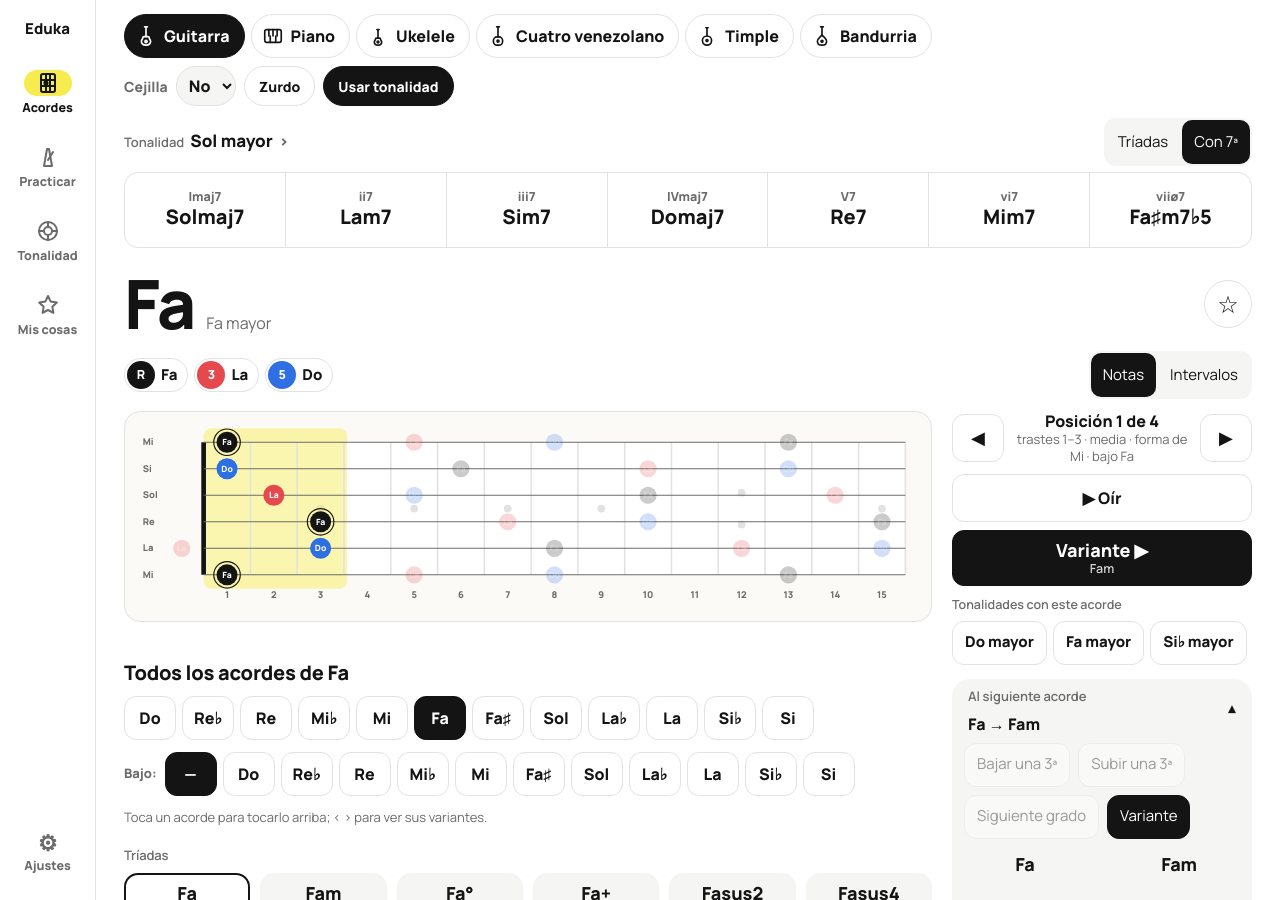
Test: pantalla Acordes › acorde fuera de tonalidad: botón Variante y chips de tonalidades
Expected: the button "Variante ▶ Fam" is shown, [952, 530, 1252, 586]
Click the button with test id "key-suggestion" showing "Do mayor". click: point(999, 643)
box: [952, 621, 1047, 665]
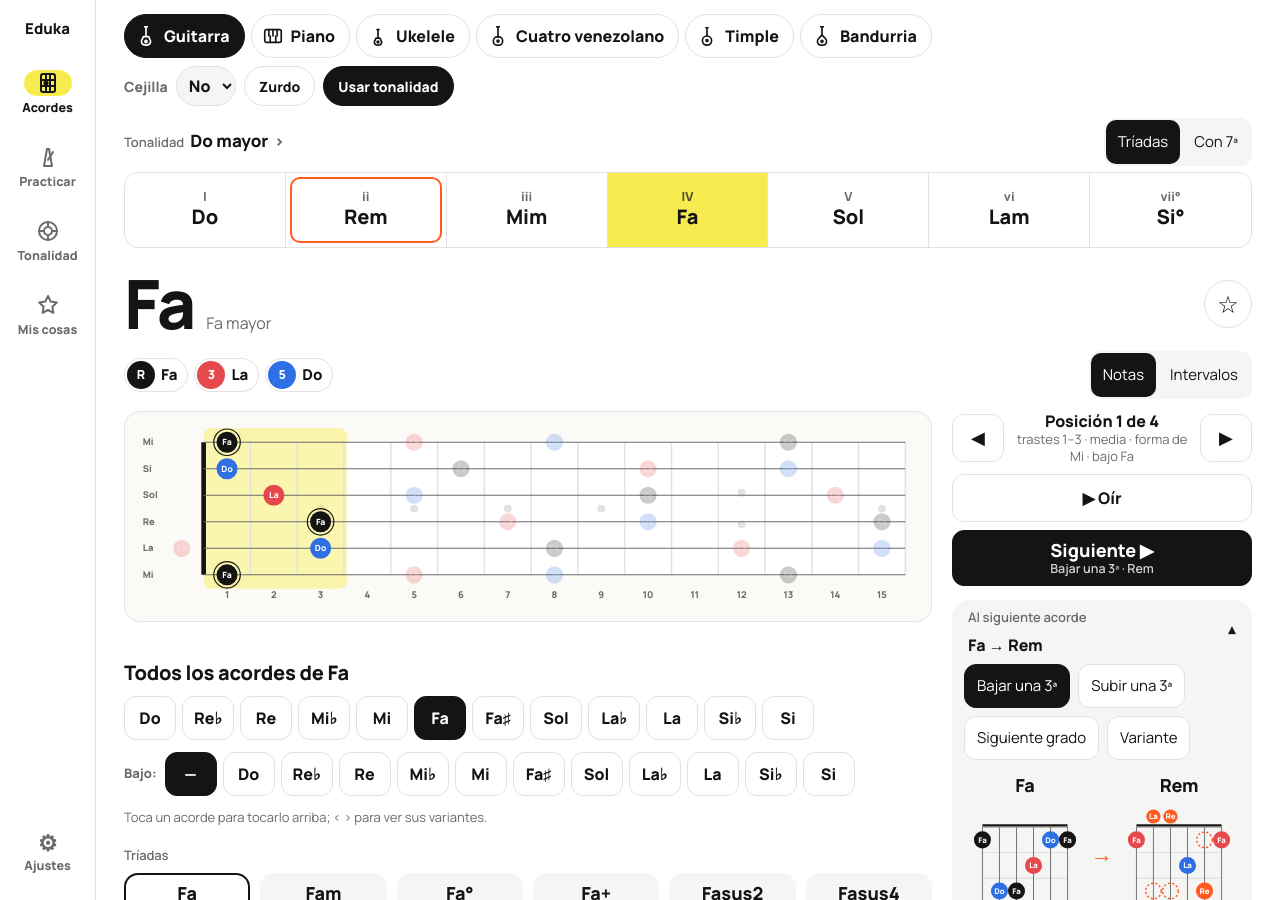
Result: the button "Siguiente ▶ Bajar una 3ª · Rem" is shown at [952, 530, 1252, 586]
